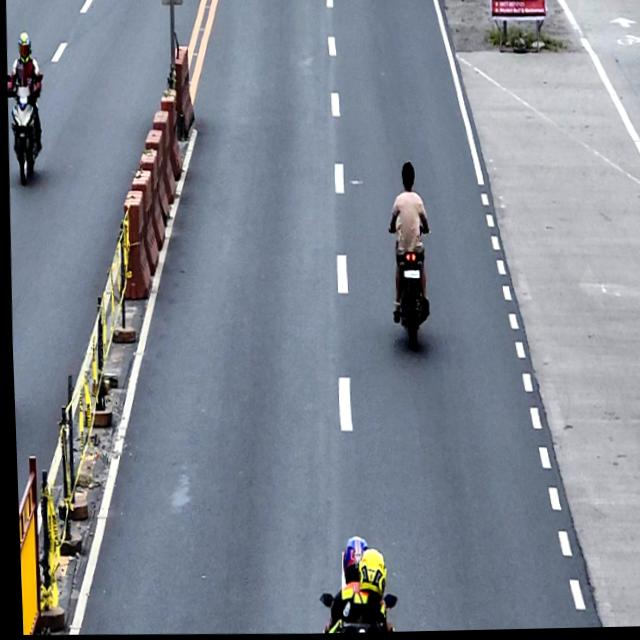License-Plate: (401, 270, 418, 281)
Motorcycle: (384, 220, 432, 354), (5, 70, 48, 187), (311, 588, 394, 635)
